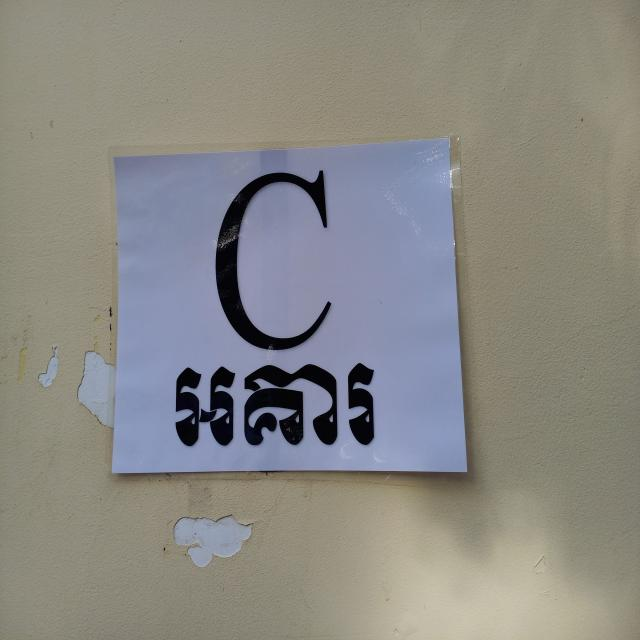Yolov11kh: (166, 345, 393, 461)
